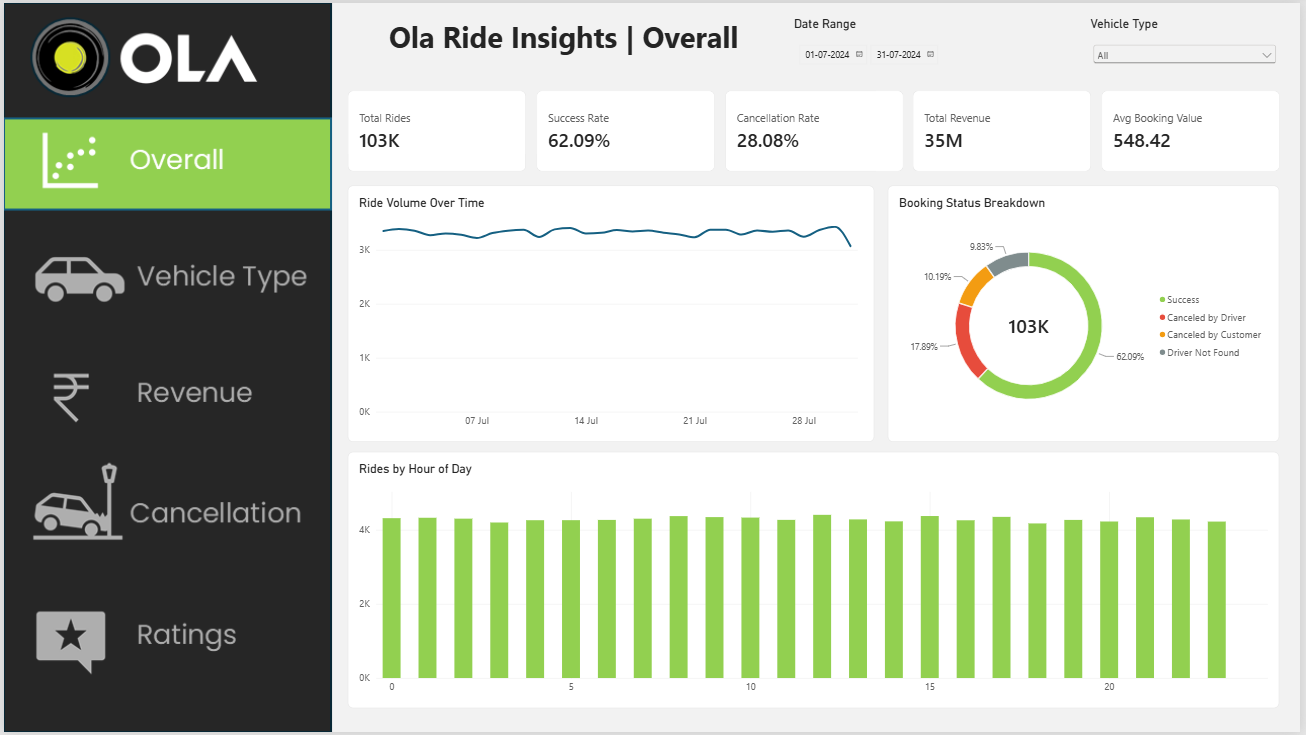

Layout of this report page (visuals, bound fields, positions):
{"tool":"powerbi","page":{"name":"Overall","canvas":[1920,1080],"ordinal":0},"visuals":[{"type":"slicer","title":"Date Range","fields":{"Values":["ola_rides.booking_date"]},"box":[1170,20,420,90],"z":0},{"type":"slicer","title":"Vehicle Type","fields":{"Values":["ola_rides.vehicle_type"]},"box":[1610,20,280,90],"z":1000},{"type":"cardVisual","fields":{"Data":["ola_rides.Total Rides"]},"box":[510,130,264,120],"z":2000},{"type":"cardVisual","fields":{"Data":["ola_rides.Success Rate"]},"box":[789,130,264,120],"z":3000},{"type":"cardVisual","fields":{"Data":["ola_rides.Cancellation Rate"]},"box":[1068,130,264,120],"z":4000},{"type":"cardVisual","fields":{"Data":["ola_rides.Total Revenue"]},"box":[1347,130,264,120],"z":5000},{"type":"cardVisual","fields":{"Data":["ola_rides.Avg Booking Value"]},"box":[1626,130,264,120],"z":6000},{"type":"lineChart","title":"Ride Volume Over Time","fields":{"Category":["ola_rides.booking_date"],"Y":["ola_rides.Total Rides"]},"box":[510,270,780,380],"z":7000},{"type":"donutChart","title":"Booking Status Breakdown","fields":{"Category":["ola_rides.booking_status"],"Y":["ola_rides.Total Rides"]},"box":[1310,270,580,380],"z":8000},{"type":"clusteredColumnChart","title":"Rides by Hour of Day","fields":{"Category":["ola_rides.booking_hour"],"Y":["ola_rides.Total Rides"]},"box":[510,665,1380,380],"z":9000},{"type":"textbox","box":[510,20,640,90],"z":10000},{"type":"actionButton","box":[0,335.9,486.6,136.2],"z":11000},{"type":"actionButton","box":[0,517.5,486.6,132.5],"z":12000},{"type":"actionButton","box":[0,690,486.6,132.5],"z":13000},{"type":"actionButton","box":[0,869.7,483,136.2],"z":14000}]}

Visuals, with their boxes in screenshot pixels (x1, y1, x2, y2), scaled from the page's 1920x1080 canvas onto the 1306x735 screenshot:
"Date Range" slicer: [left=796, top=14, right=1082, bottom=75]
"Vehicle Type" slicer: [left=1095, top=14, right=1286, bottom=75]
cardVisual - ola_rides.Total Rides: [left=347, top=88, right=526, bottom=170]
cardVisual - ola_rides.Success Rate: [left=537, top=88, right=716, bottom=170]
cardVisual - ola_rides.Cancellation Rate: [left=726, top=88, right=906, bottom=170]
cardVisual - ola_rides.Total Revenue: [left=916, top=88, right=1096, bottom=170]
cardVisual - ola_rides.Avg Booking Value: [left=1106, top=88, right=1286, bottom=170]
"Ride Volume Over Time" lineChart: [left=347, top=184, right=877, bottom=442]
"Booking Status Breakdown" donutChart: [left=891, top=184, right=1286, bottom=442]
"Rides by Hour of Day" clusteredColumnChart: [left=347, top=453, right=1286, bottom=711]
textbox: [left=347, top=14, right=782, bottom=75]
actionButton: [left=0, top=229, right=331, bottom=321]
actionButton: [left=0, top=352, right=331, bottom=442]
actionButton: [left=0, top=470, right=331, bottom=560]
actionButton: [left=0, top=592, right=329, bottom=685]
